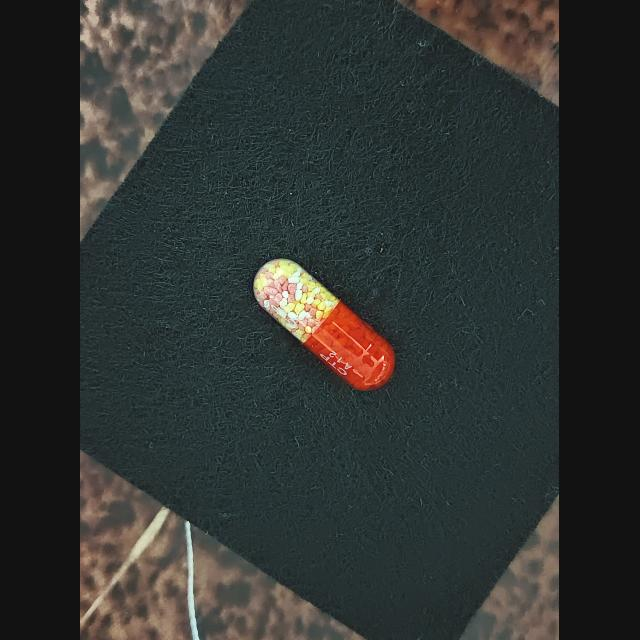Intact Capsule: (254, 259, 396, 391)
